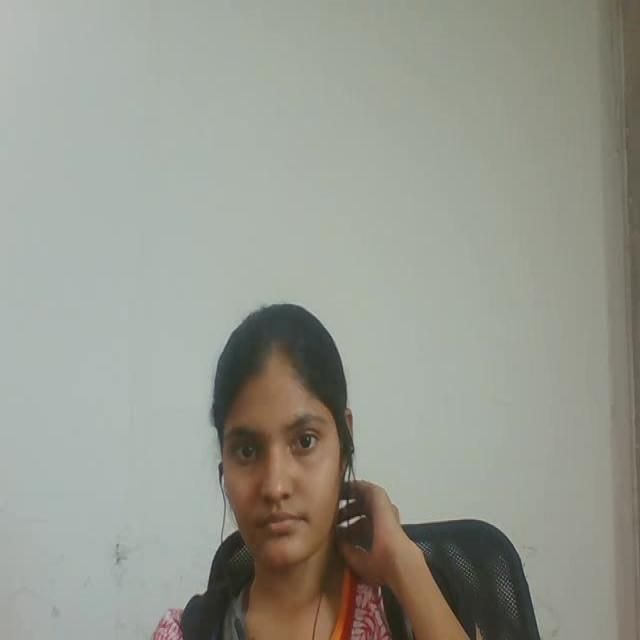Engaged: (170, 281, 393, 581)
